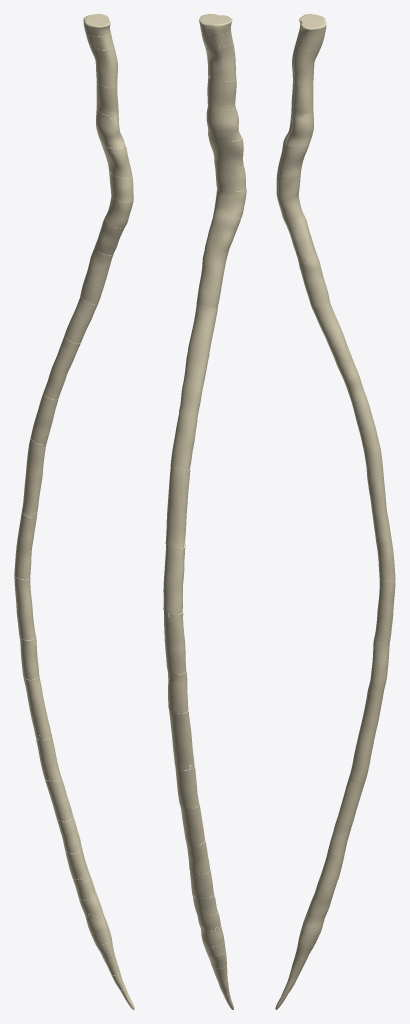
Rendered from hra-spinal-cord-UNREVIEWED.glb.
3 renders of one model, left to right at view 1: azimuth 90°, elevation 25°; view 2: azimuth 150°, elevation 25°; view 3: azimuth 270°, elevation 25°, orthographic.
Parts seen in each view (by area): view 1: nervous-hra-cord-source-uberon-0006454, nervous-hra-cord-source-uberon-0006458, nervous-hra-cord-source-uberon-0006455, nervous-hra-cord-source-uberon-0006452, nervous-hra-cord-source-uberon-0006456, nervous-hra-cord-source-uberon-0006466, nervous-hra-cord-source-uberon-0006488, nervous-hra-cord-source-uberon-0006453, nervous-hra-cord-source-uberon-0006459, nervous-hra-cord-source-uberon-0006491, nervous-hra-cord-source-uberon-0006467, nervous-hra-cord-source-uberon-0006468 (+13 smaller); view 2: nervous-hra-cord-source-uberon-0006454, nervous-hra-cord-source-uberon-0006452, nervous-hra-cord-source-uberon-0006455, nervous-hra-cord-source-uberon-0006458, nervous-hra-cord-source-uberon-0006456, nervous-hra-cord-source-uberon-0006466, nervous-hra-cord-source-uberon-0006453, nervous-hra-cord-source-uberon-0006491, nervous-hra-cord-source-uberon-0006459, nervous-hra-cord-source-uberon-0006488, nervous-hra-cord-source-uberon-0006457, nervous-hra-cord-source-uberon-0006470 (+14 smaller); view 3: nervous-hra-cord-source-uberon-0006454, nervous-hra-cord-source-uberon-0006458, nervous-hra-cord-source-uberon-0006455, nervous-hra-cord-source-uberon-0006452, nervous-hra-cord-source-uberon-0006466, nervous-hra-cord-source-uberon-0006456, nervous-hra-cord-source-uberon-0006488, nervous-hra-cord-source-uberon-0006453, nervous-hra-cord-source-uberon-0006459, nervous-hra-cord-source-uberon-0006491, nervous-hra-cord-source-uberon-0006492, nervous-hra-cord-source-uberon-0006467 (+13 smaller).
Part boxes in pixels (box(x1,y1,x2,y2)): nervous-hra-cord-source-uberon-0006454: box(22, 438, 47, 517); nervous-hra-cord-source-uberon-0006458: box(80, 246, 113, 304); nervous-hra-cord-source-uberon-0006455: box(14, 512, 37, 579); nervous-hra-cord-source-uberon-0006452: box(43, 335, 80, 399); nervous-hra-cord-source-uberon-0006456: box(14, 575, 35, 640); nervous-hra-cord-source-uberon-0006466: box(23, 673, 51, 739); nervous-hra-cord-source-uberon-0006488: box(90, 46, 117, 88); nervous-hra-cord-source-uberon-0006453: box(30, 393, 57, 444); nervous-hra-cord-source-uberon-0006459: box(65, 296, 97, 343); nervous-hra-cord-source-uberon-0006491: box(96, 109, 125, 149); nervous-hra-cord-source-uberon-0006467: box(35, 733, 60, 781); nervous-hra-cord-source-uberon-0006468: box(45, 774, 72, 821); nervous-hra-cord-source-uberon-0006454: box(165, 467, 190, 547); nervous-hra-cord-source-uberon-0006452: box(179, 350, 209, 419); nervous-hra-cord-source-uberon-0006455: box(163, 543, 185, 616); nervous-hra-cord-source-uberon-0006458: box(196, 249, 228, 307); nervous-hra-cord-source-uberon-0006456: box(164, 613, 186, 673); nervous-hra-cord-source-uberon-0006466: box(169, 709, 194, 769); nervous-hra-cord-source-uberon-0006453: box(170, 413, 197, 470); nervous-hra-cord-source-uberon-0006491: box(206, 105, 241, 141); nervous-hra-cord-source-uberon-0006459: box(188, 304, 217, 353); nervous-hra-cord-source-uberon-0006488: box(205, 42, 236, 81); nervous-hra-cord-source-uberon-0006457: box(204, 215, 240, 252); nervous-hra-cord-source-uberon-0006470: box(213, 188, 246, 219); nervous-hra-cord-source-uberon-0006454: box(363, 443, 387, 521); nervous-hra-cord-source-uberon-0006458: box(297, 248, 329, 309); nervous-hra-cord-source-uberon-0006455: box(372, 511, 395, 584); nervous-hra-cord-source-uberon-0006452: box(330, 339, 366, 404); nervous-hra-cord-source-uberon-0006466: box(358, 677, 386, 741); nervous-hra-cord-source-uberon-0006456: box(374, 581, 395, 641); nervous-hra-cord-source-uberon-0006488: box(292, 43, 319, 87); nervous-hra-cord-source-uberon-0006453: box(352, 397, 379, 449); nervous-hra-cord-source-uberon-0006459: box(313, 300, 344, 348); nervous-hra-cord-source-uberon-0006491: box(284, 110, 313, 147); nervous-hra-cord-source-uberon-0006492: box(277, 139, 308, 177); nervous-hra-cord-source-uberon-0006467: box(349, 735, 373, 782).
Bounding box in the file's own units: 0.0149 × 0.4486 × 0.0494.
